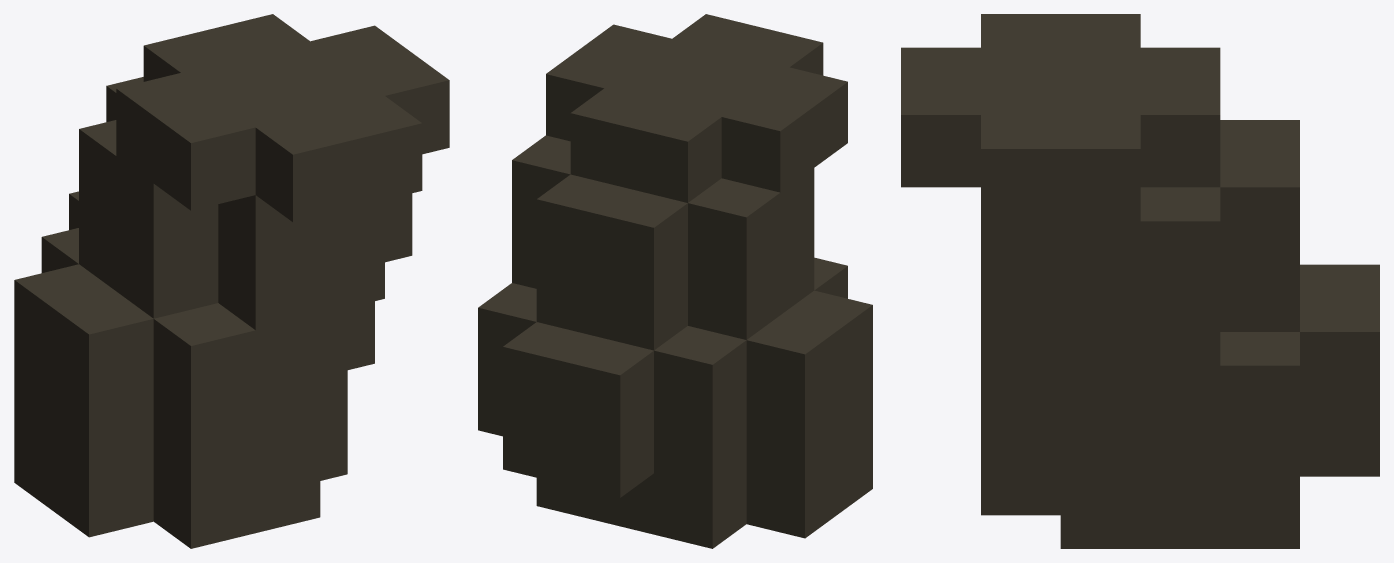
The model's file is Medieval Assets-33-Decoration - Swamp - Old Tree Stump.obj.
3 views of the same model, side by side, from view 1: azimuth 30°, elevation 25°; view 2: azimuth 150°, elevation 25°; view 3: azimuth 270°, elevation 25° (orthographic). The views are drawn at different scales.
Parts seen in each view (by area): view 1: Decoration - Swamp - Old Tree Stump; view 2: Decoration - Swamp - Old Tree Stump; view 3: Decoration - Swamp - Old Tree Stump.
Part boxes in pixels (x1=…): Decoration - Swamp - Old Tree Stump: x1=14, y1=14, x2=449, y2=548; Decoration - Swamp - Old Tree Stump: x1=478, y1=14, x2=872, y2=548; Decoration - Swamp - Old Tree Stump: x1=901, y1=14, x2=1379, y2=548.
Size of the model in its own units: 0.5 by 0.6 by 0.6.
1 material, 1 textured.
